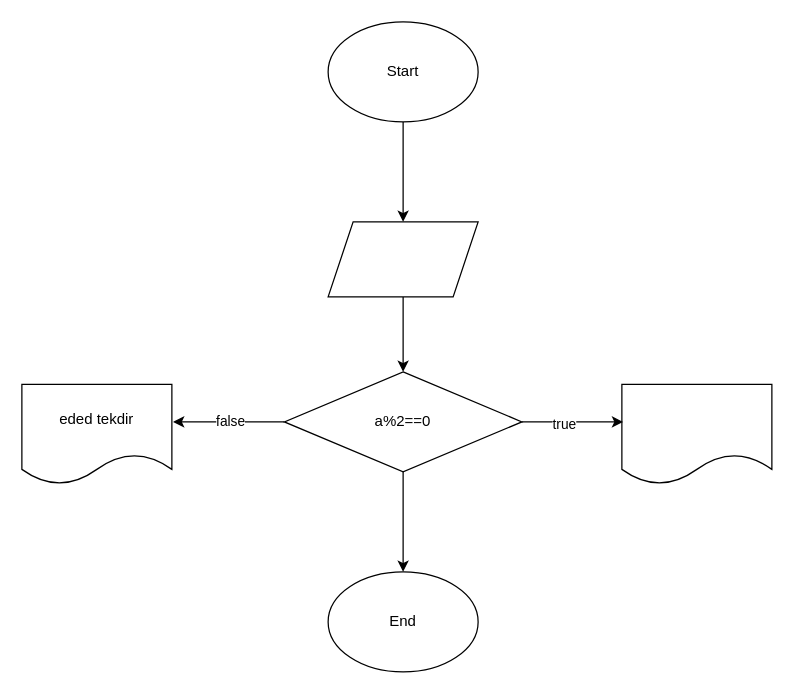
This 794x694 diagram has some shape labels left out. Each missing label, with the box of its shape:
Eded cutdur: (621, 383, 772, 484)
let a: (327, 221, 478, 297)
